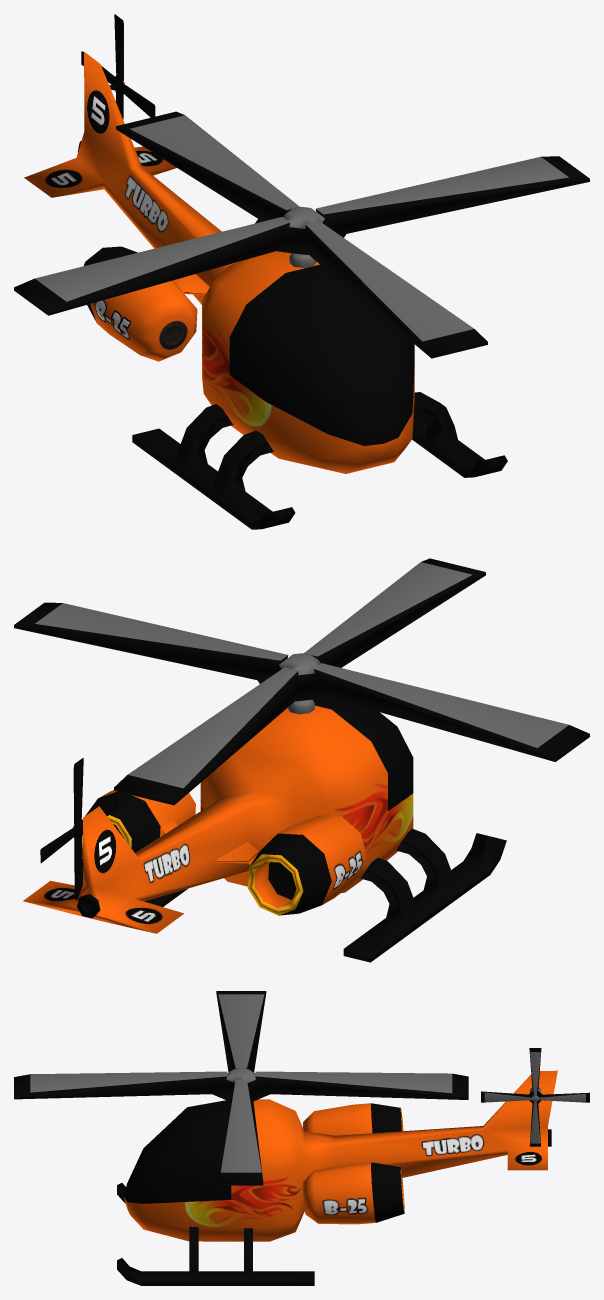
File: Helicopter.fbx
3 renders of one model, top to bottom at view 1: azimuth 30°, elevation 25°; view 2: azimuth 150°, elevation 25°; view 3: azimuth 270°, elevation 25°, orthographic. The views are drawn at different scales.
Visible parts, largest first — view 1: body1, Propeller, RightLeg, LeftLeg, Propeller1; view 2: body1, Propeller, RightLeg, Propeller1; view 3: body1, Propeller, LeftLeg, Propeller1.
Part boxes in pixels (bbox=[...]): body1: bbox=[24, 51, 414, 473]; Propeller: bbox=[14, 111, 589, 358]; RightLeg: bbox=[132, 404, 295, 529]; LeftLeg: bbox=[412, 392, 507, 477]; Propeller1: bbox=[81, 14, 155, 119]; body1: bbox=[23, 697, 413, 933]; Propeller: bbox=[14, 558, 589, 805]; RightLeg: bbox=[343, 828, 506, 962]; Propeller1: bbox=[40, 758, 118, 900]; body1: bbox=[123, 1070, 557, 1241]; Propeller: bbox=[14, 991, 468, 1185]; LeftLeg: bbox=[117, 1226, 314, 1285]; Propeller1: bbox=[481, 1048, 589, 1146].
Bounding box in the file's own units: 18.13 × 8.9 × 22.97.
